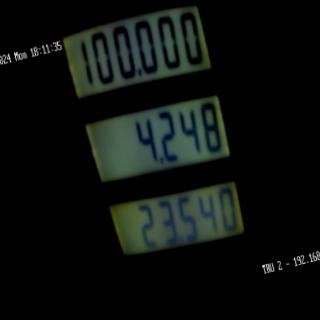screen: (49, 0, 262, 281)
